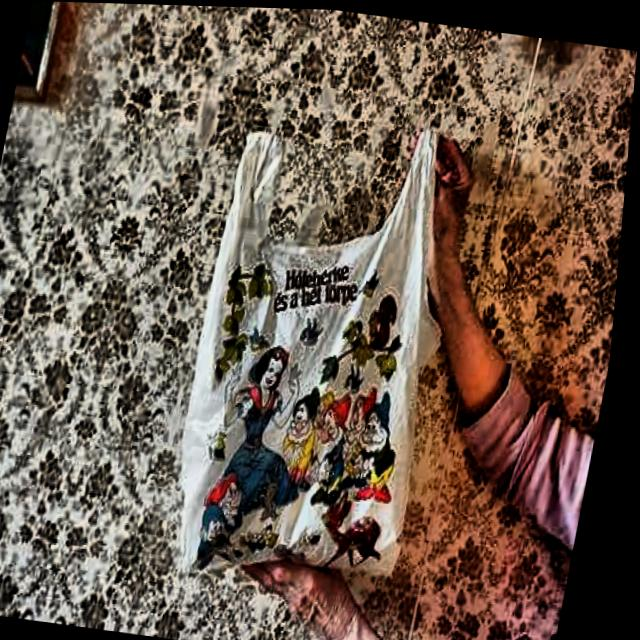Plastic: (148, 89, 497, 612)
